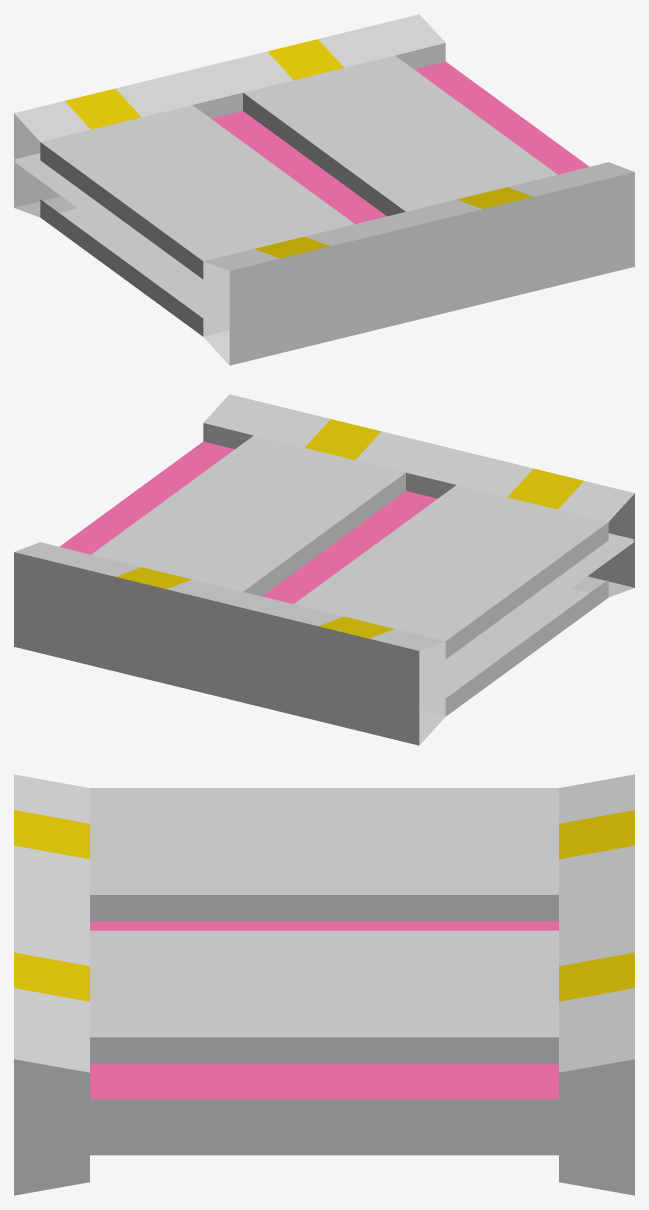
The model's file is extra short bridge.fbx.
The picture shows the model from 3 angles, top to bottom: view 1: azimuth 30°, elevation 25°; view 2: azimuth 150°, elevation 25°; view 3: azimuth 270°, elevation 25°; orthographic projection. The views are drawn at different scales.
Visible parts, largest first — view 1: Cube; view 2: Cube; view 3: Cube.
Boxes of the visible parts, x1,y1,x2,y2 form: Cube: (14, 14, 634, 365); Cube: (14, 394, 634, 745); Cube: (14, 774, 634, 1195).
Bounding box in the file's own units: 515 × 115 × 474.
